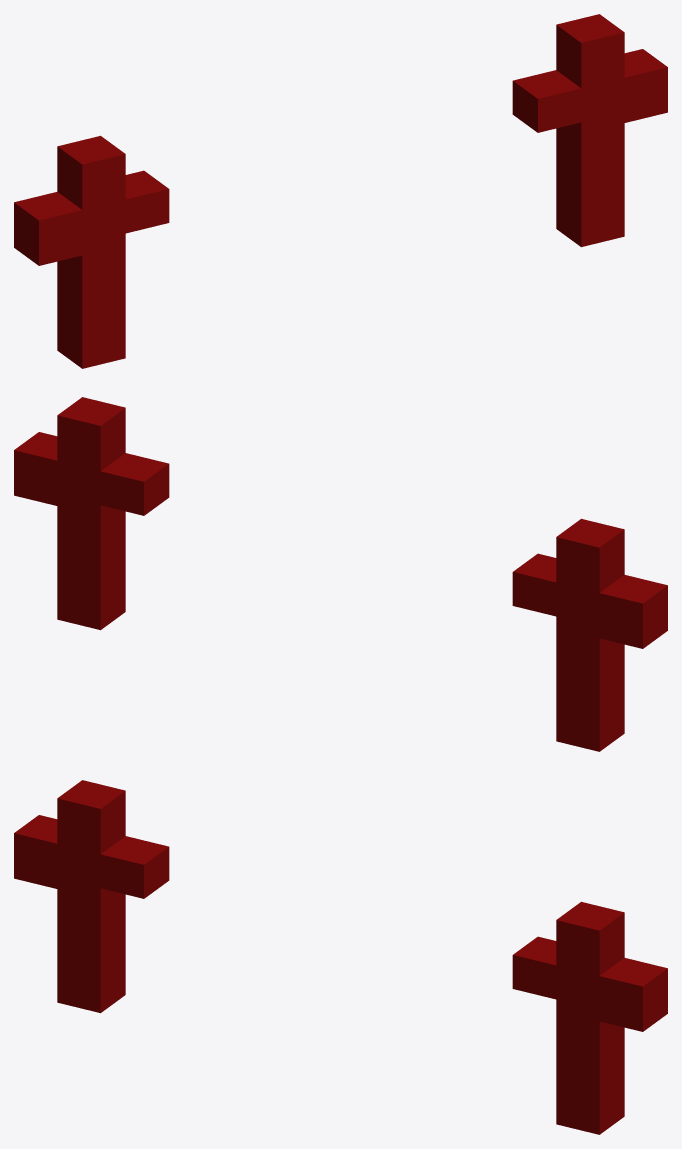
File: MejoraTumba-0.obj
The picture shows the model from 3 angles, top to bottom: view 1: azimuth 30°, elevation 25°; view 2: azimuth 150°, elevation 25°; view 3: azimuth 330°, elevation 25°; orthographic projection.
Size of the model in its own units: 5.8 by 1.8 by 0.4.
1 material, 1 textured.
